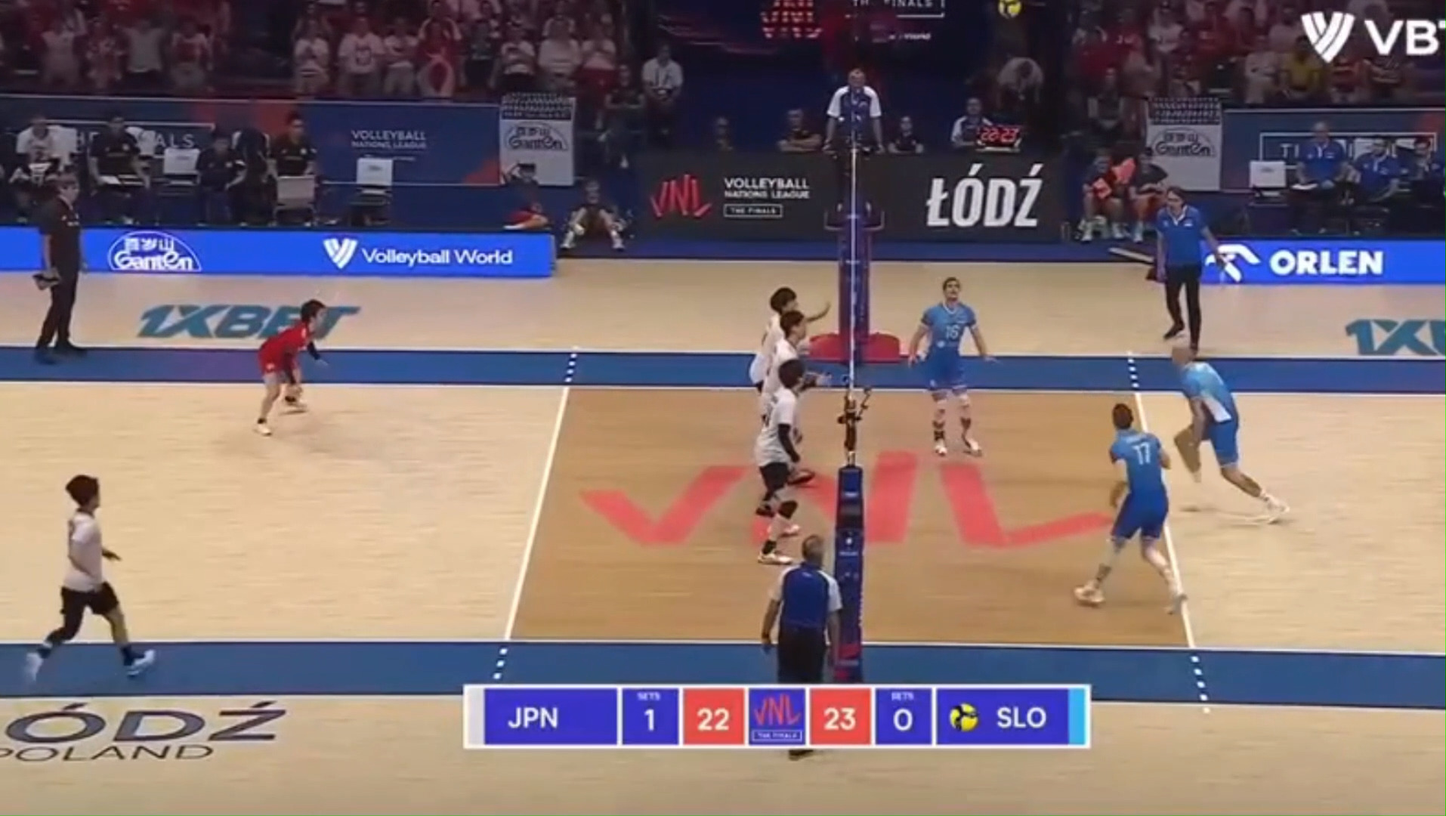ball: (997, 0, 1023, 18)
player: (1074, 403, 1185, 613), (1172, 346, 1286, 520), (908, 277, 990, 456)
player 1: (26, 474, 153, 679), (754, 360, 803, 562), (254, 298, 326, 435), (749, 287, 829, 396), (760, 311, 806, 413)
referee: (760, 536, 842, 684), (1154, 187, 1223, 351), (32, 174, 85, 363), (824, 69, 882, 236)
